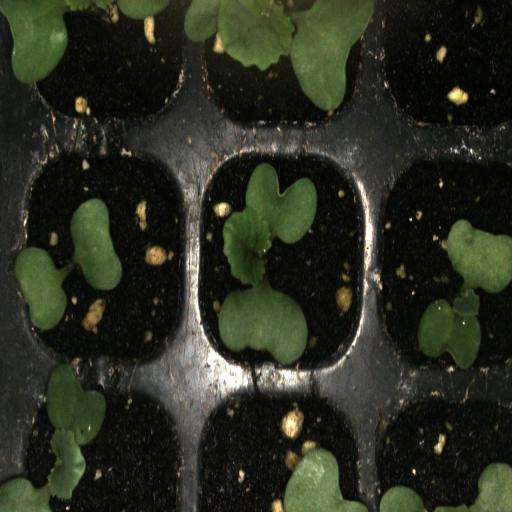Folha: (0, 0, 170, 87), (379, 462, 512, 512), (283, 447, 369, 512), (9, 246, 67, 331), (71, 198, 122, 291)
Germinacao: (12, 135, 198, 372), (198, 136, 371, 382), (370, 138, 512, 386), (14, 374, 196, 512), (200, 0, 369, 133)
